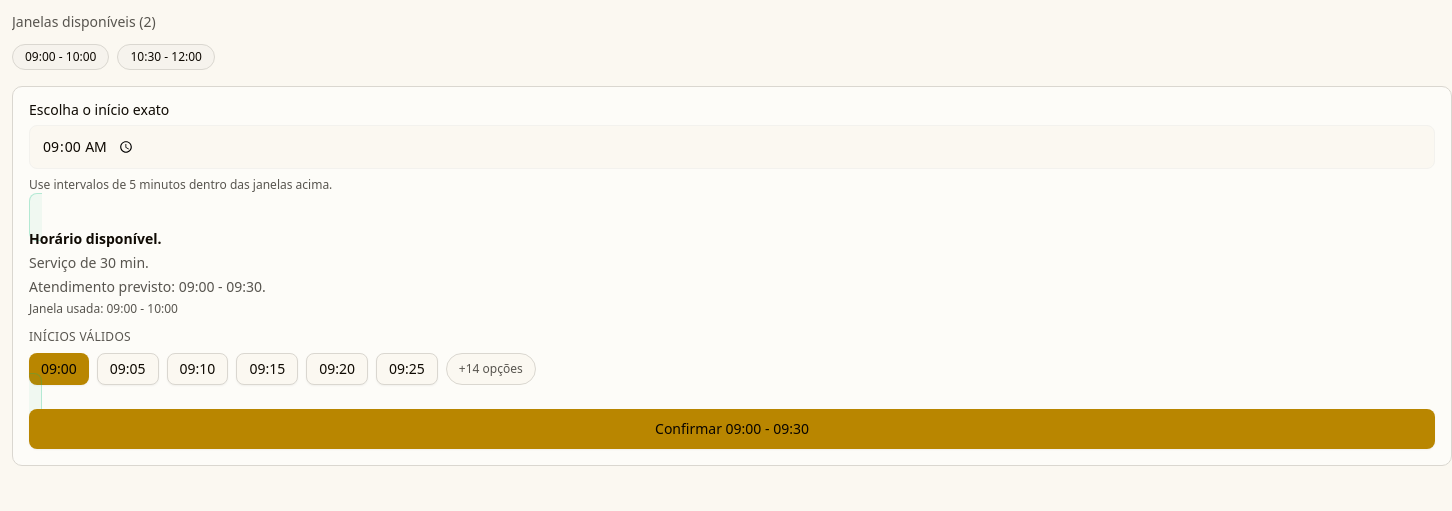
Scenario: TimeSlotGrid › shows validation when the selected time exceeds the window
Step 1. Replace the text in the time field labelled "Escolha o início exato" with "09:45" → {"x": 732, "y": 147}, box [29,125,1435,169]
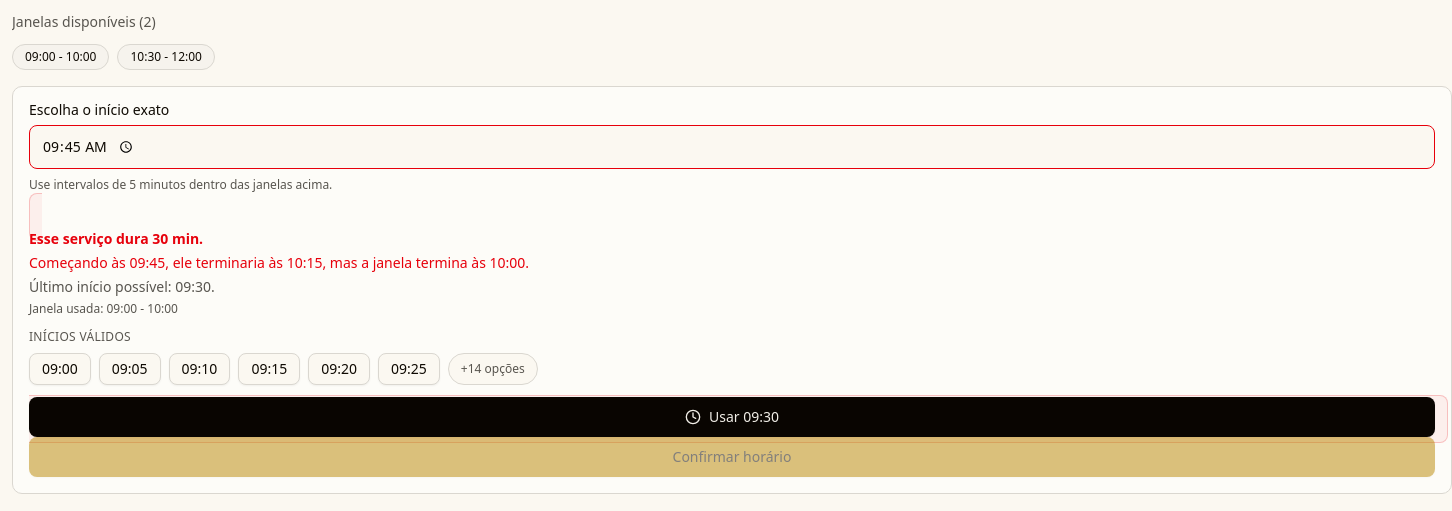
Expected: the text "Esse serviço dura 30 min." is shown, [29,229,203,248]
Expected: the text "Último início possível: 09:30." is shown, [29,277,215,296]
Expected: the button "Usar 09:30" is shown, [29,397,1435,437]
